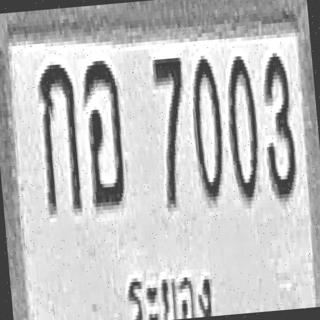A01: (35, 59, 83, 214)
A43: (80, 56, 128, 207)
N00: (222, 52, 263, 202), (187, 54, 227, 201)
N03: (258, 52, 299, 199)
N07: (151, 54, 193, 208)
P53: (120, 245, 216, 320)
